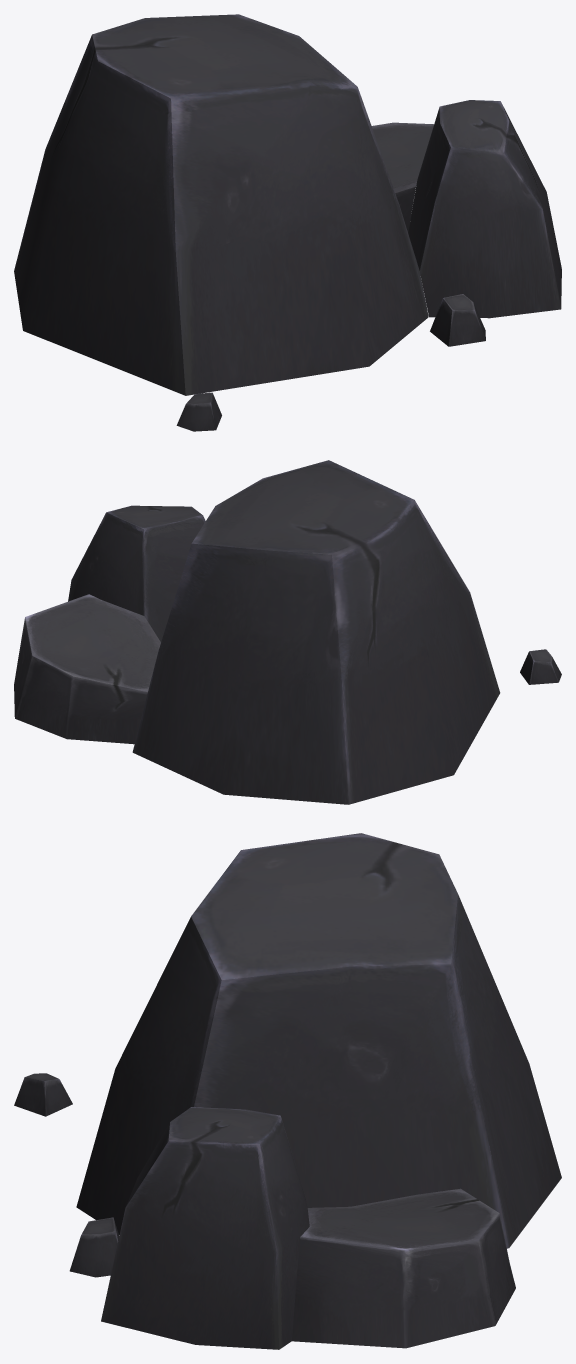
3 views of the same model, one above another, from view 1: azimuth 30°, elevation 25°; view 2: azimuth 150°, elevation 25°; view 3: azimuth 270°, elevation 25° (orthographic). The views are drawn at different scales.
Visible parts, largest first — view 1: 岩石001, 岩石002, 岩石003, 岩石004, 岩石005; view 2: 岩石001, 岩石003, 岩石002, 岩石005; view 3: 岩石001, 岩石002, 岩石003, 岩石004, 岩石005.
Boxes of the visible parts, x1=… form: 岩石001: x1=14, y1=14, x2=428, y2=395; 岩石002: x1=408, y1=100, x2=561, y2=318; 岩石003: x1=371, y1=122, x2=433, y2=232; 岩石004: x1=430, y1=294, x2=485, y2=346; 岩石005: x1=176, y1=392, x2=221, y2=431; 岩石001: x1=132, y1=460, x2=500, y2=804; 岩石003: x1=14, y1=594, x2=160, y2=744; 岩石002: x1=68, y1=505, x2=205, y2=642; 岩石005: x1=520, y1=649, x2=561, y2=684; 岩石001: x1=76, y1=833, x2=561, y2=1248; 岩石002: x1=101, y1=1107, x2=309, y2=1349; 岩石003: x1=292, y1=1188, x2=515, y2=1348; 岩石004: x1=69, y1=1217, x2=119, y2=1277; 岩石005: x1=14, y1=1073, x2=72, y2=1116.
Bounding box in the file's own units: 6.24 × 3.15 × 5.38.
Materials: 3 (3 with a texture image).
